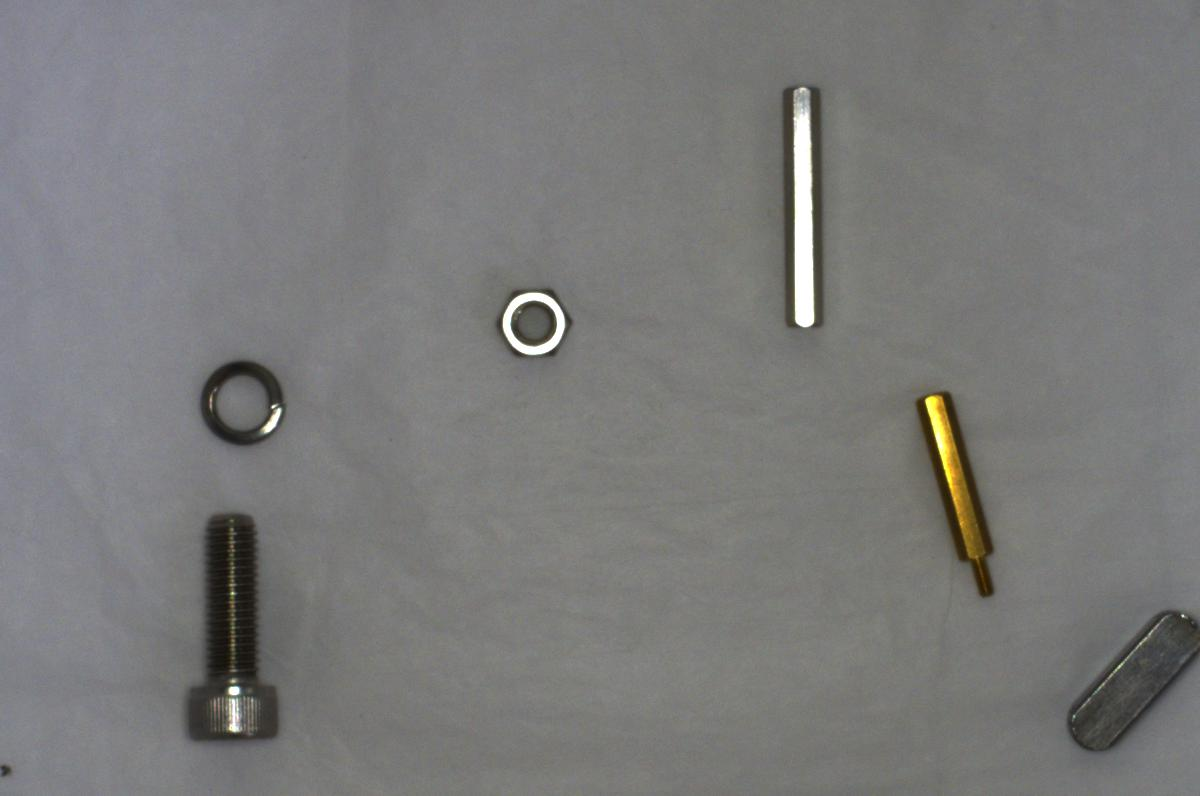Double hexagonal column: (766, 63, 835, 338)
Hexagon nut: (487, 282, 580, 363)
Hexagon pillar: (902, 382, 1022, 608)
Hexagon screw: (179, 501, 293, 749)
Keybar: (1057, 599, 1197, 765)
Spring washer: (182, 348, 295, 447)
